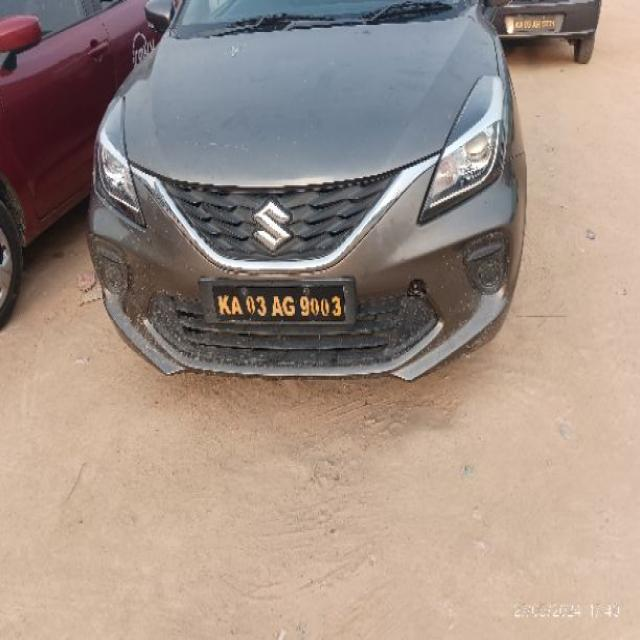license_plate: (198, 276, 356, 326), (505, 13, 556, 32)
